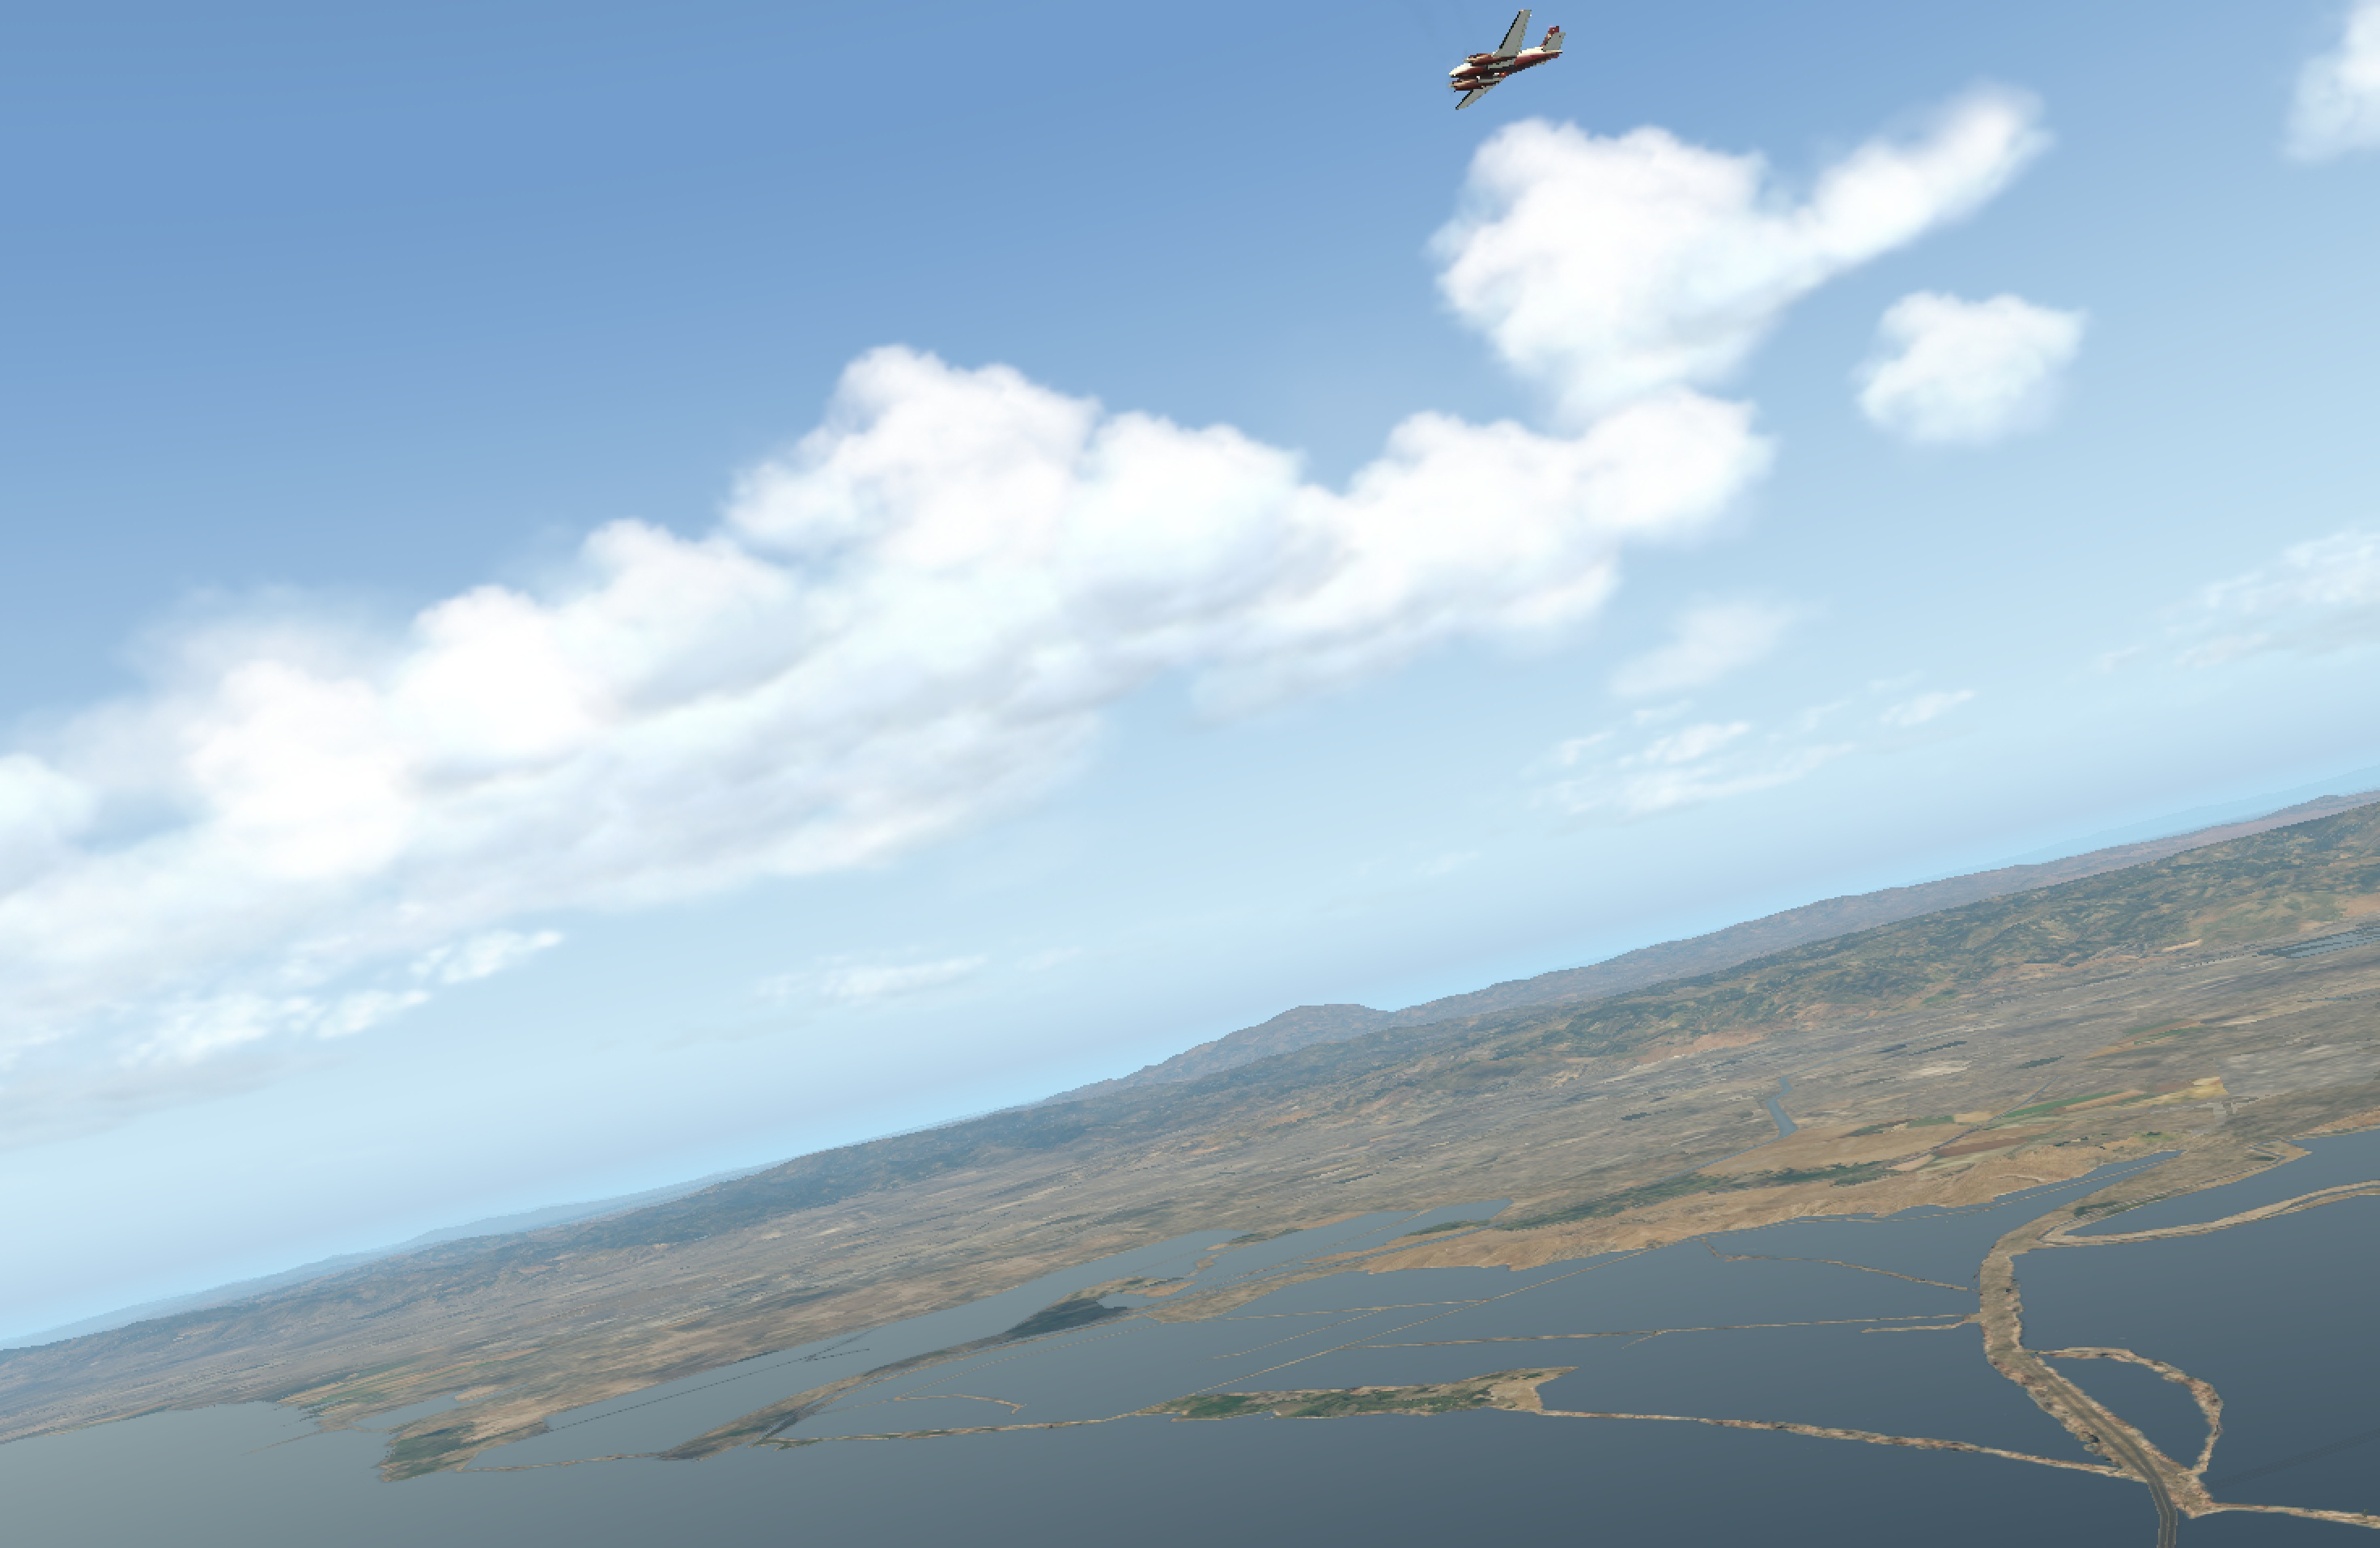aircraft: (1398, 40, 1580, 108)
